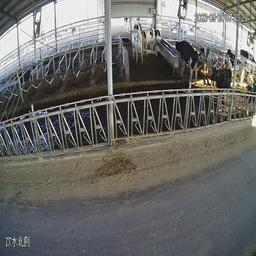cow: (172, 38, 197, 86), (198, 43, 218, 87), (210, 65, 233, 103), (226, 46, 245, 89), (142, 27, 160, 57), (131, 26, 144, 67), (243, 79, 255, 112)
